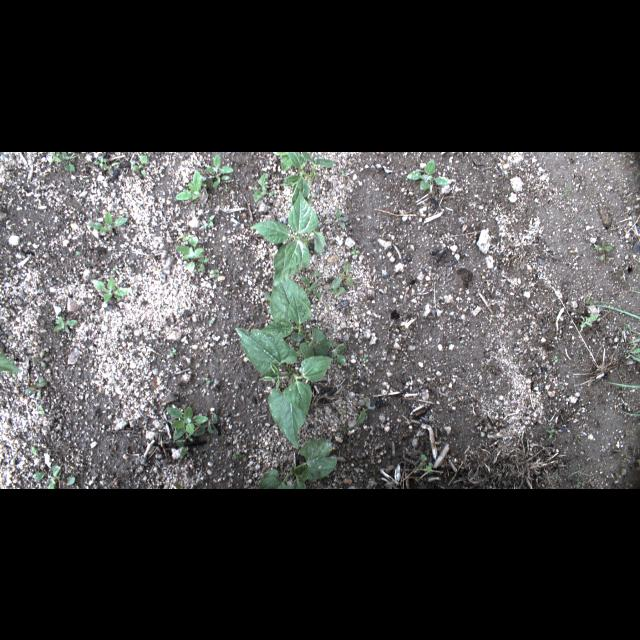crop: (234, 326, 334, 448), (248, 191, 326, 281), (257, 438, 339, 488), (254, 278, 312, 342), (274, 151, 336, 203), (1, 350, 20, 378)
weed: (166, 406, 204, 456), (174, 234, 210, 272), (408, 157, 438, 190), (89, 209, 129, 233), (94, 276, 130, 302), (34, 466, 76, 488), (204, 154, 232, 186), (176, 170, 204, 198), (332, 261, 358, 291), (49, 151, 83, 171), (597, 304, 639, 320), (194, 414, 222, 436), (356, 396, 374, 426), (252, 171, 270, 201), (620, 330, 638, 360), (586, 290, 612, 310), (302, 274, 322, 298), (26, 378, 49, 397), (567, 464, 585, 488), (94, 156, 118, 174), (594, 240, 614, 260), (53, 316, 79, 330), (132, 152, 148, 174), (330, 343, 346, 363), (580, 313, 598, 329), (420, 453, 434, 473), (607, 382, 639, 390), (32, 352, 50, 366), (628, 342, 640, 358), (335, 208, 345, 226), (619, 408, 639, 416), (625, 323, 639, 333), (312, 268, 322, 280), (333, 286, 343, 296), (338, 426, 354, 432), (350, 247, 360, 256), (204, 216, 213, 226), (230, 454, 242, 461), (626, 338, 640, 344), (30, 445, 38, 455), (575, 433, 583, 443), (546, 428, 554, 438), (340, 404, 348, 414), (552, 354, 560, 364), (212, 268, 220, 278), (360, 354, 368, 362), (630, 424, 640, 430), (630, 288, 640, 294), (37, 406, 44, 414), (174, 482, 182, 488), (500, 479, 508, 485), (550, 472, 558, 478), (562, 188, 568, 196), (340, 168, 346, 176), (278, 460, 284, 466), (620, 458, 626, 464), (38, 198, 44, 204), (169, 350, 177, 354), (578, 397, 584, 401), (230, 288, 234, 294), (636, 172, 638, 180)
